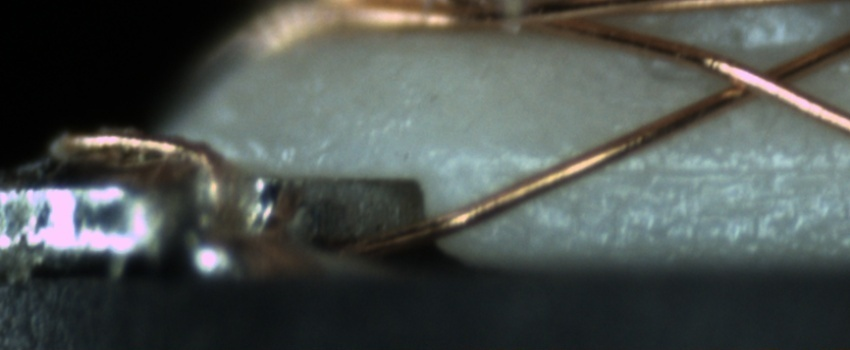CL: (702, 48, 819, 109)
DL: (487, 137, 849, 201)
TE: (56, 120, 238, 238)
